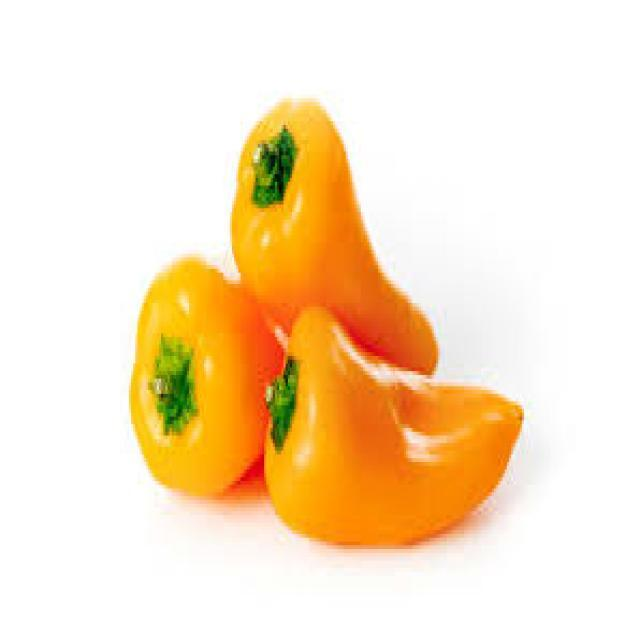Pepper: (262, 304, 523, 550), (229, 96, 440, 377), (128, 257, 286, 501)
